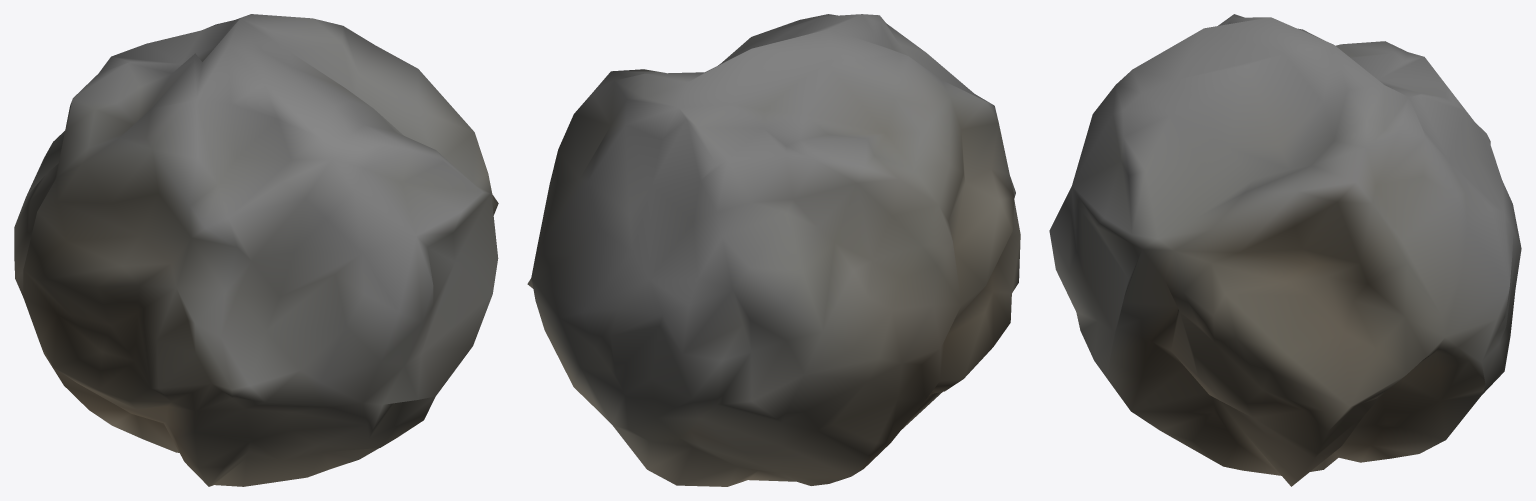
3 renders of one model, left to right at view 1: azimuth 30°, elevation 25°; view 2: azimuth 150°, elevation 25°; view 3: azimuth 270°, elevation 25°, orthographic. The views are drawn at different scales.
Visible parts, largest first — view 1: anim_5_12_11; view 2: anim_5_12_11; view 3: anim_5_12_11.
Part boxes in pixels (box(x1,y1,x2,y2)): anim_5_12_11: box(14, 14, 498, 486); anim_5_12_11: box(527, 14, 1020, 486); anim_5_12_11: box(1049, 14, 1521, 486).
Size of the model in its own units: 0.4885 by 0.4957 by 0.5.
